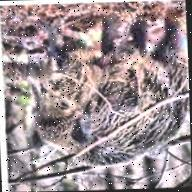boar: (6, 4, 191, 169)
